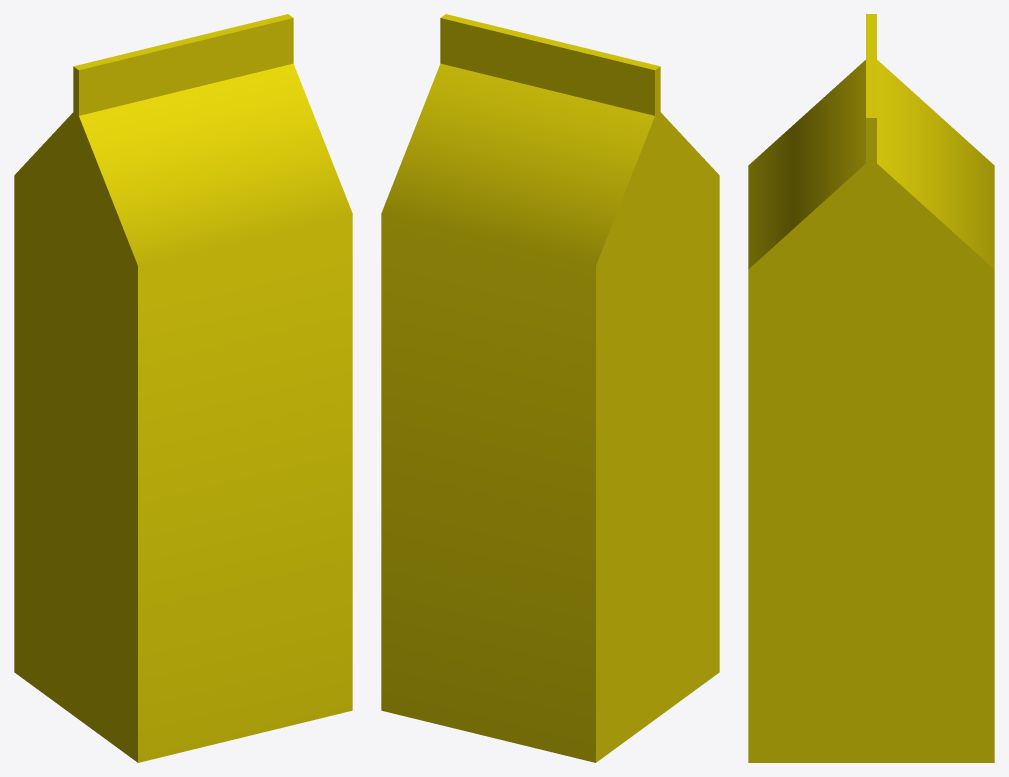
The model's file is Orange_Juice.fbx.
3 renders of one model, left to right at view 1: azimuth 30°, elevation 25°; view 2: azimuth 150°, elevation 25°; view 3: azimuth 270°, elevation 25°, orthographic.
Parts seen in each view (by area): view 1: Orange_Juice; view 2: Orange_Juice; view 3: Orange_Juice.
Part boxes in pixels (x1,y1,x2,y2): Orange_Juice: (14,14,352,762); Orange_Juice: (381,14,719,762); Orange_Juice: (748,14,994,762).
Size of the model in its own units: 53.46 by 154 by 53.46.
